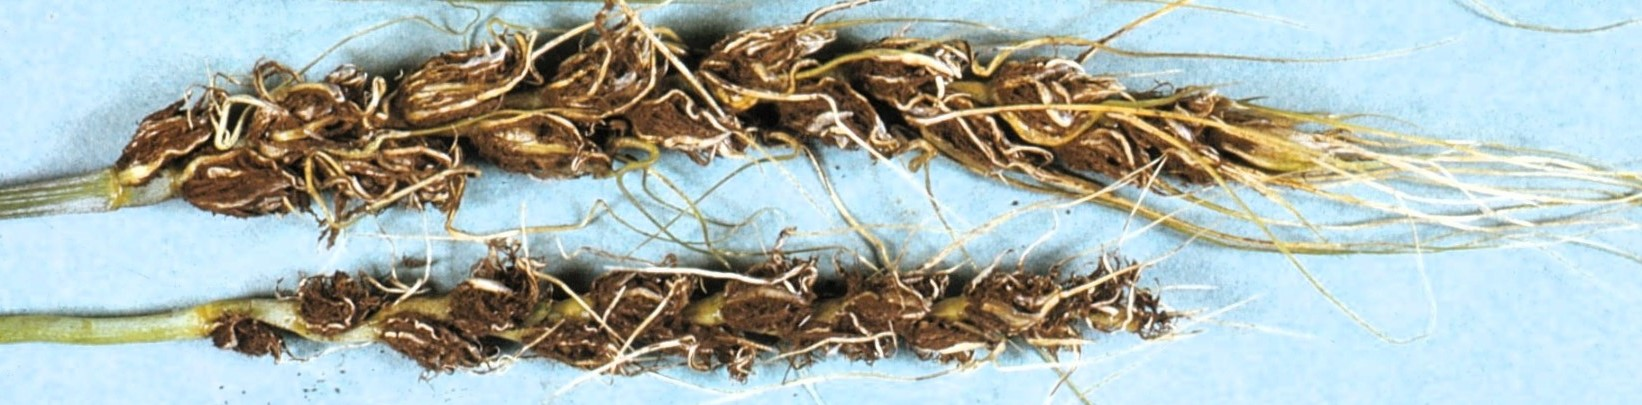Wheat Loose Smut: (333, 1, 1108, 204)
